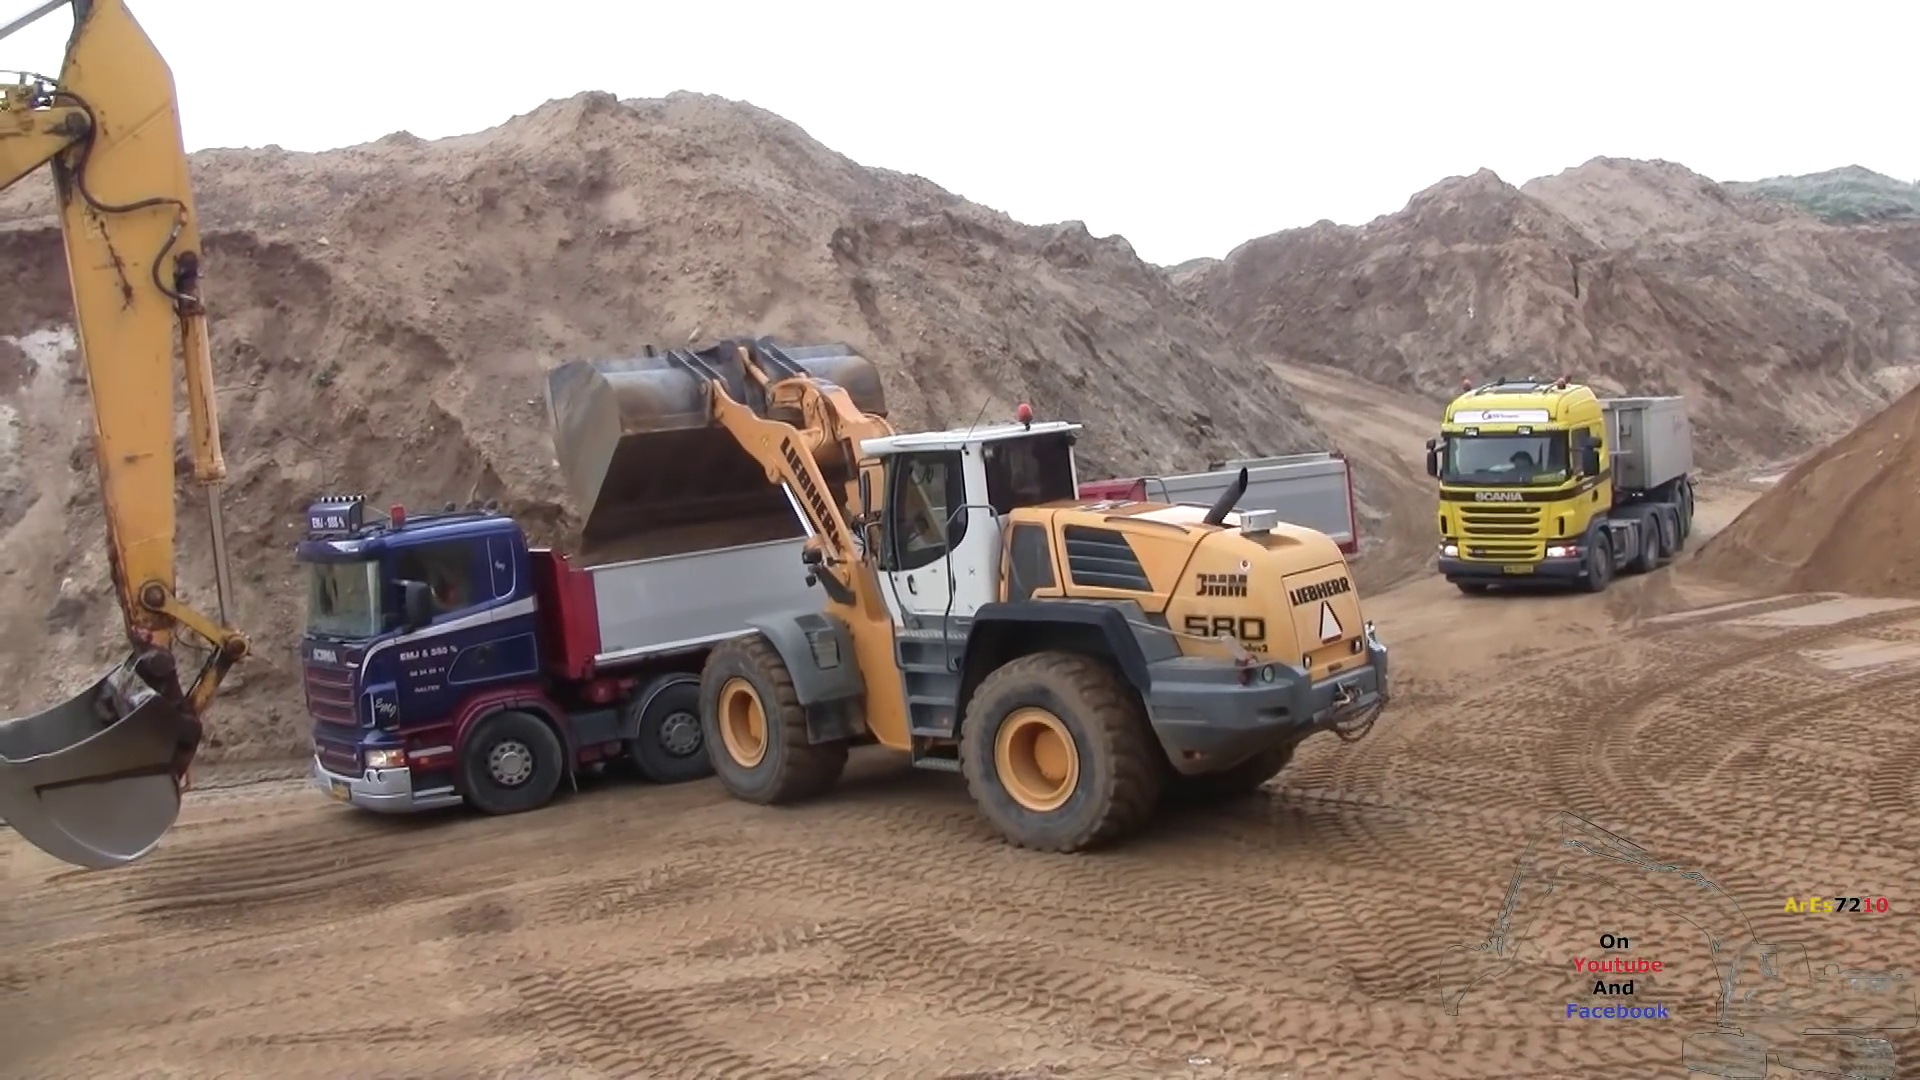excavator: (1, 1, 255, 865)
truck: (276, 446, 1370, 831), (1428, 369, 1700, 591)
wheel loader: (546, 338, 1391, 855)
